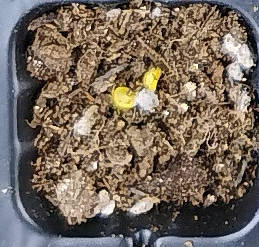pepper seed: (43, 31, 181, 141), (61, 19, 224, 112)
